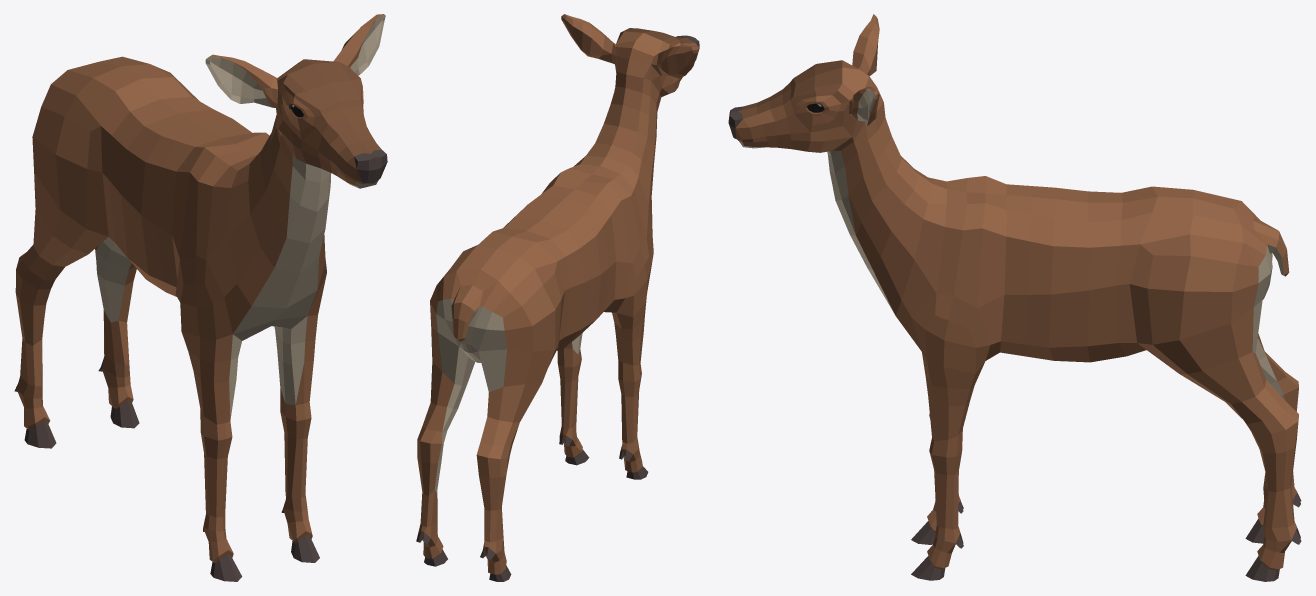
The model's file is deer.glb.
The picture shows the model from 3 angles, left to right: view 1: azimuth 30°, elevation 25°; view 2: azimuth 150°, elevation 25°; view 3: azimuth 270°, elevation 25°; orthographic projection. The views are drawn at different scales.
Visible parts, largest first — view 1: Deer; view 2: Deer; view 3: Deer.
Part boxes in pixels (x1=…): Deer: x1=14, y1=14, x2=387, y2=581; Deer: x1=416, y1=14, x2=699, y2=581; Deer: x1=728, y1=14, x2=1301, y2=581.
Bounding box in the file's own units: 1.46 × 4.27 × 4.4.
